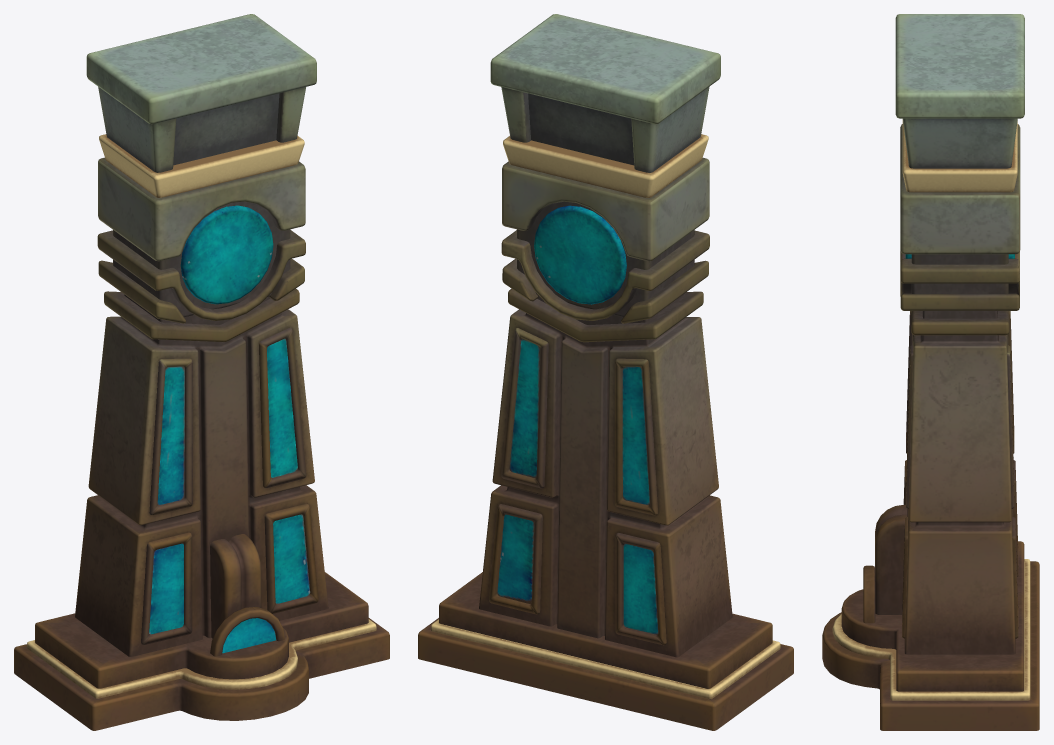
File: pilar.glb
The picture shows the model from 3 angles, left to right: view 1: azimuth 30°, elevation 25°; view 2: azimuth 150°, elevation 25°; view 3: azimuth 270°, elevation 25°; orthographic projection.
Parts seen in each view (by area): view 1: pilar; view 2: pilar; view 3: pilar.
Part boxes in pixels (x1,y1,x2,y2): pilar: (14,14,389,730); pilar: (418,14,793,730); pilar: (822,14,1039,730).
Size of the model in its own units: 1.92 by 3.75 by 1.22.
Materials: 1 (1 with a texture image).
